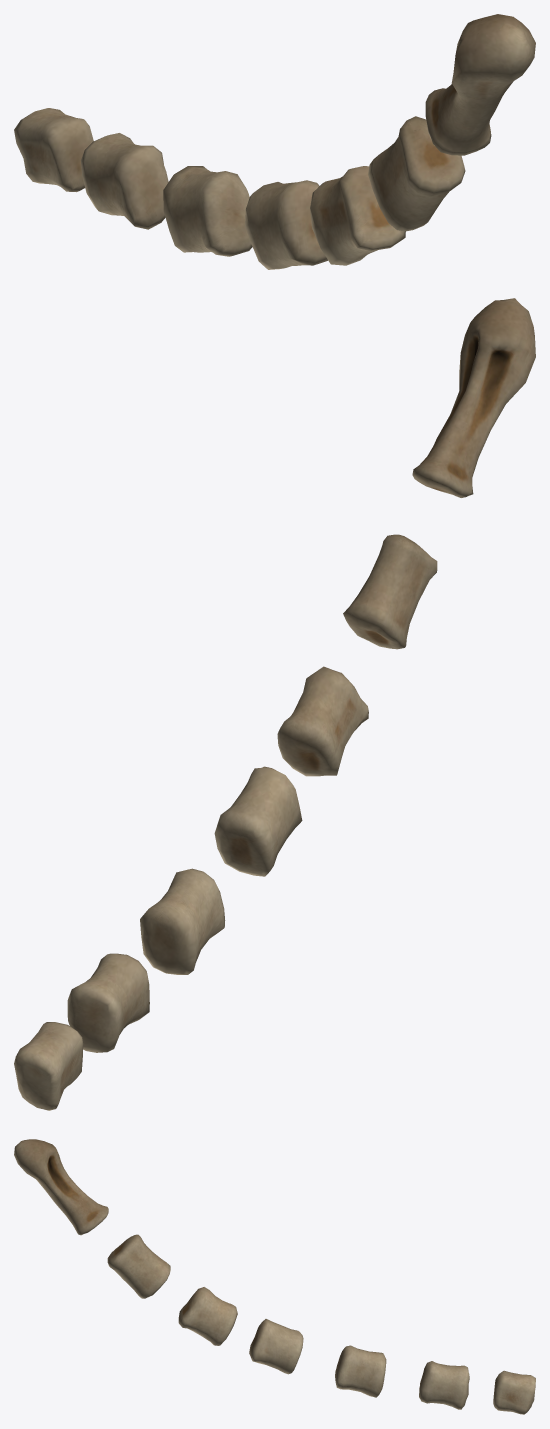
File: Sternebrae.glb
3 views of the same model, one above another, from view 1: azimuth 30°, elevation 25°; view 2: azimuth 150°, elevation 25°; view 3: azimuth 270°, elevation 25° (orthographic). The views are drawn at different scales.
Visible parts, largest first — view 1: Sternebrae1:Group4564; view 2: Sternebrae1:Group4564; view 3: Sternebrae1:Group4564.
Boxes of the visible parts, x1=… form: Sternebrae1:Group4564: x1=14, y1=14, x2=535, y2=269; Sternebrae1:Group4564: x1=14, y1=298, x2=535, y2=1110; Sternebrae1:Group4564: x1=14, y1=1139, x2=535, y2=1414.
Size of the model in its own units: 12.45 by 64.3 by 114.
1 material, 1 textured.
